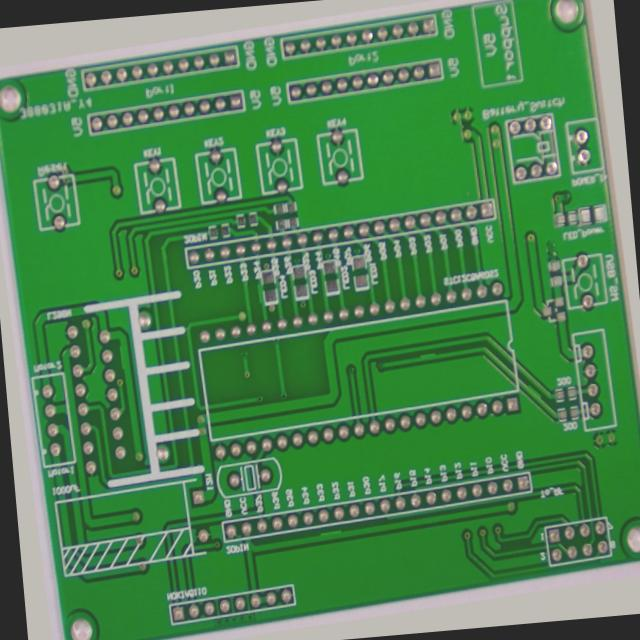spur: (305, 534, 340, 554), (104, 325, 120, 361), (529, 397, 550, 420), (250, 272, 266, 302), (417, 355, 442, 372)
